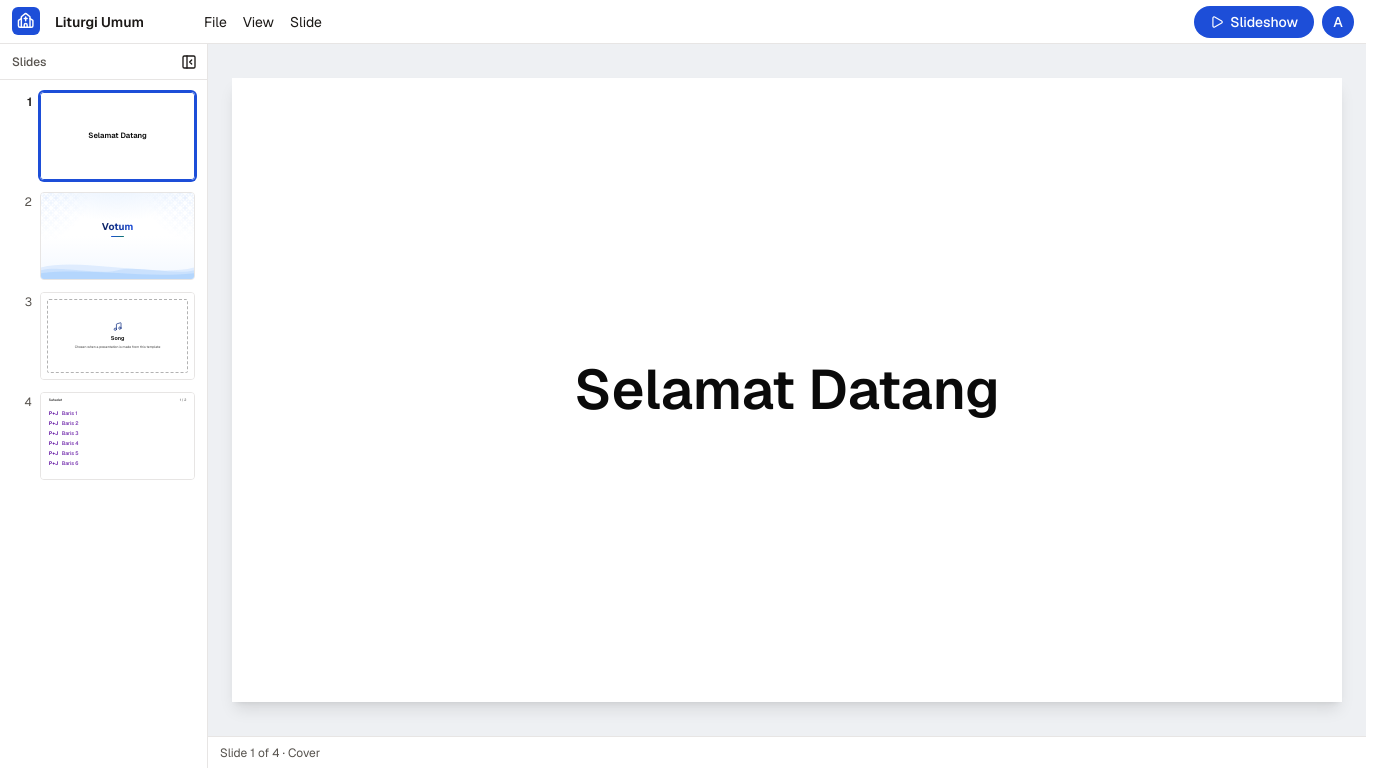
it: a click in the filmstrip shows that slide on the stage
Click the button with aria-label "Slide 2: Section": [104, 236] box left=12, top=192, right=195, bottom=280
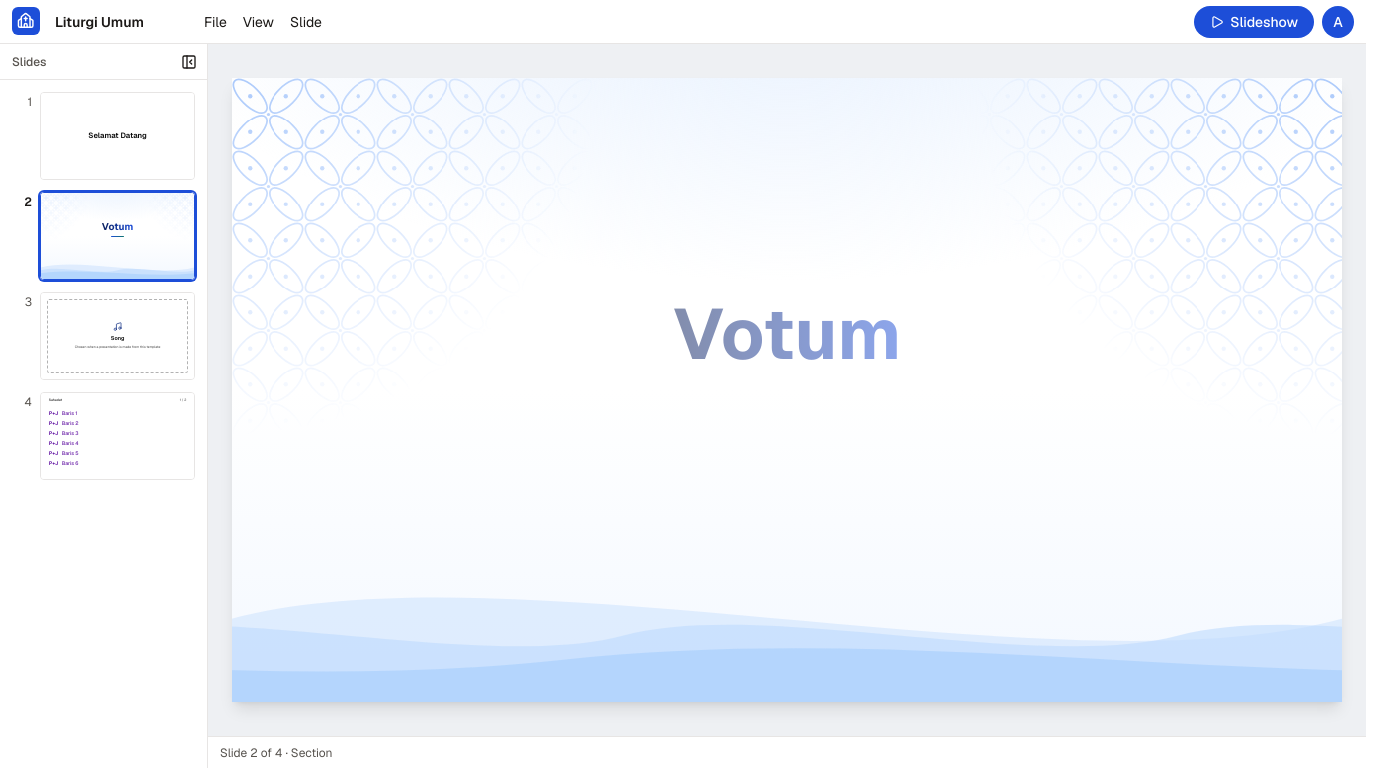
Expected: the text "Votum" is shown, left=673, top=291, right=901, bottom=369
Expected: the text "Slide 2 of 4 · Section" is shown, left=216, top=744, right=336, bottom=760
